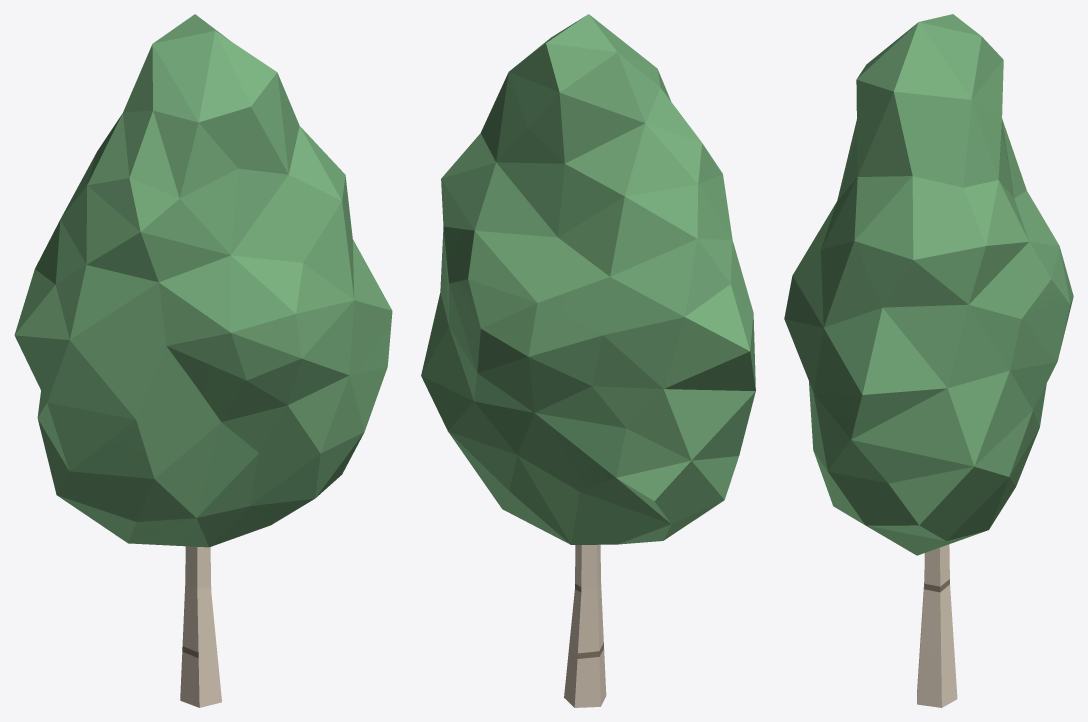
The model's file is tree-birch.glb.
3 views of the same model, side by side, from view 1: azimuth 30°, elevation 25°; view 2: azimuth 150°, elevation 25°; view 3: azimuth 270°, elevation 25° (orthographic).
Visible parts, largest first — view 1: tree_birch; view 2: tree_birch; view 3: tree_birch.
Boxes of the visible parts, bbox=[...] form: tree_birch: bbox=[14, 14, 392, 707]; tree_birch: bbox=[421, 14, 755, 707]; tree_birch: bbox=[784, 14, 1073, 707].
Size of the model in its own units: 348 by 677 by 261.
